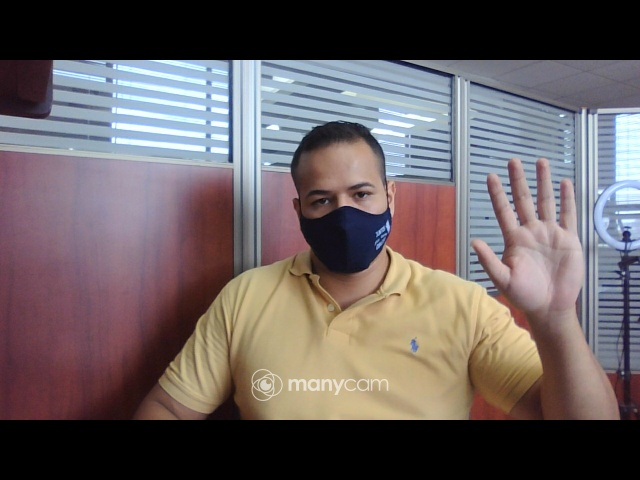Hello: (470, 156, 595, 317)
